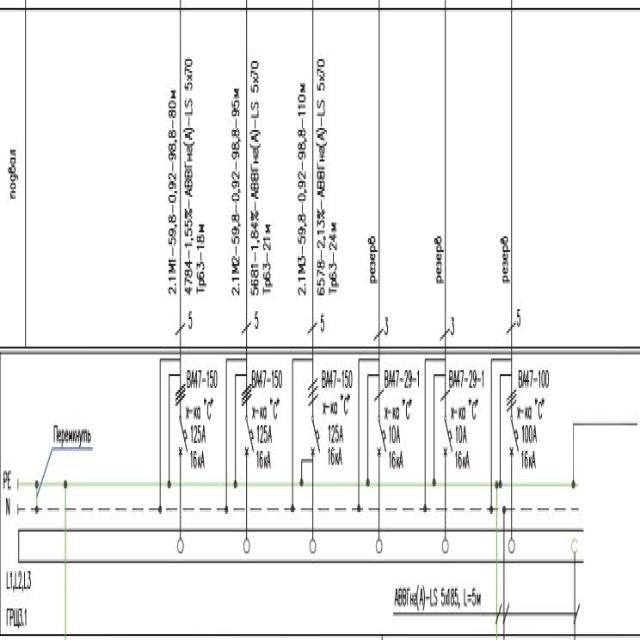-: (516, 367, 552, 476), (184, 365, 220, 474), (384, 367, 420, 476), (320, 366, 356, 475), (249, 367, 285, 476), (449, 367, 484, 476), (4, 604, 30, 633)
QF: (173, 381, 189, 466), (239, 381, 255, 466), (306, 376, 322, 461), (372, 384, 389, 459), (505, 384, 520, 469), (439, 386, 454, 461)
